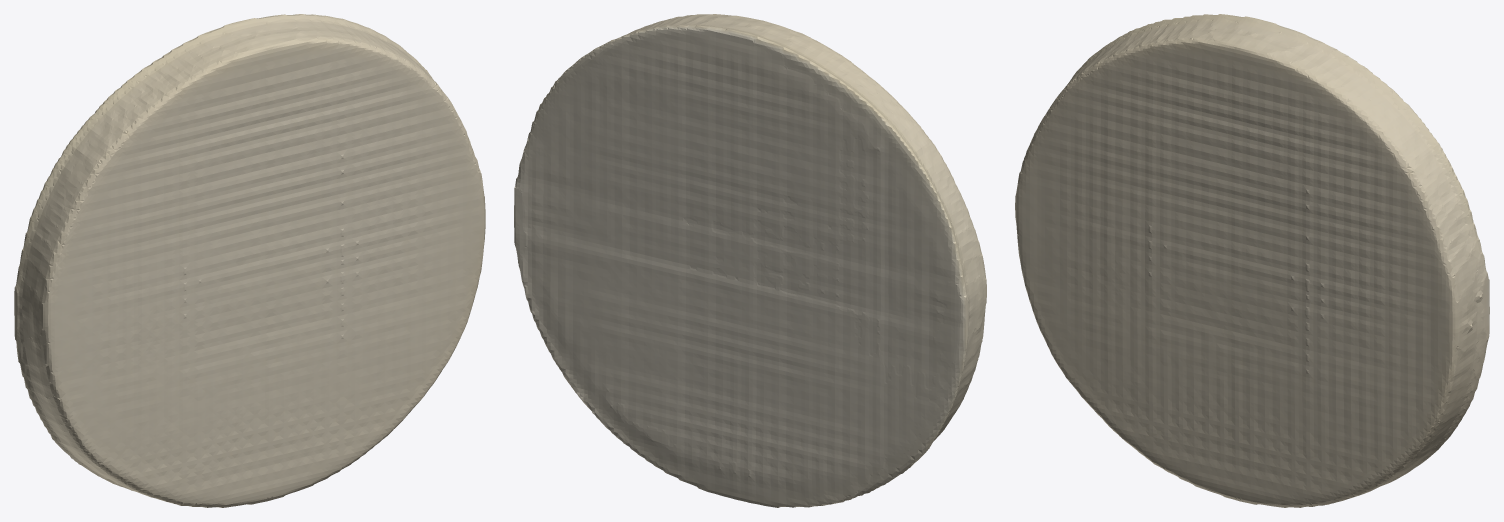
Rendered from bunBottom.glb.
3 views of the same model, side by side, from view 1: azimuth 30°, elevation 25°; view 2: azimuth 150°, elevation 25°; view 3: azimuth 330°, elevation 25° (orthographic).
Visible parts, largest first — view 1: geometry_0; view 2: geometry_0; view 3: geometry_0.
Part boxes in pixels (x1=…): geometry_0: x1=14, y1=14, x2=485, y2=507; geometry_0: x1=514, y1=14, x2=986, y2=507; geometry_0: x1=1015, y1=14, x2=1489, y2=507.
Bounding box in the file's own units: 1.97 × 1.96 × 0.2465.
